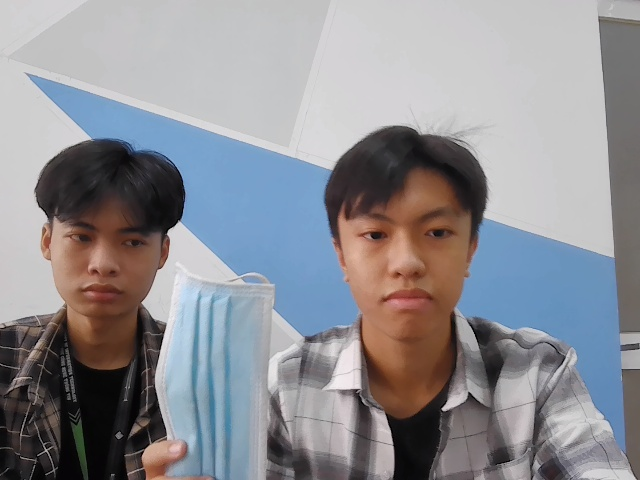human: (328, 126, 490, 339), (37, 138, 186, 314)
mask: (157, 264, 272, 480)
